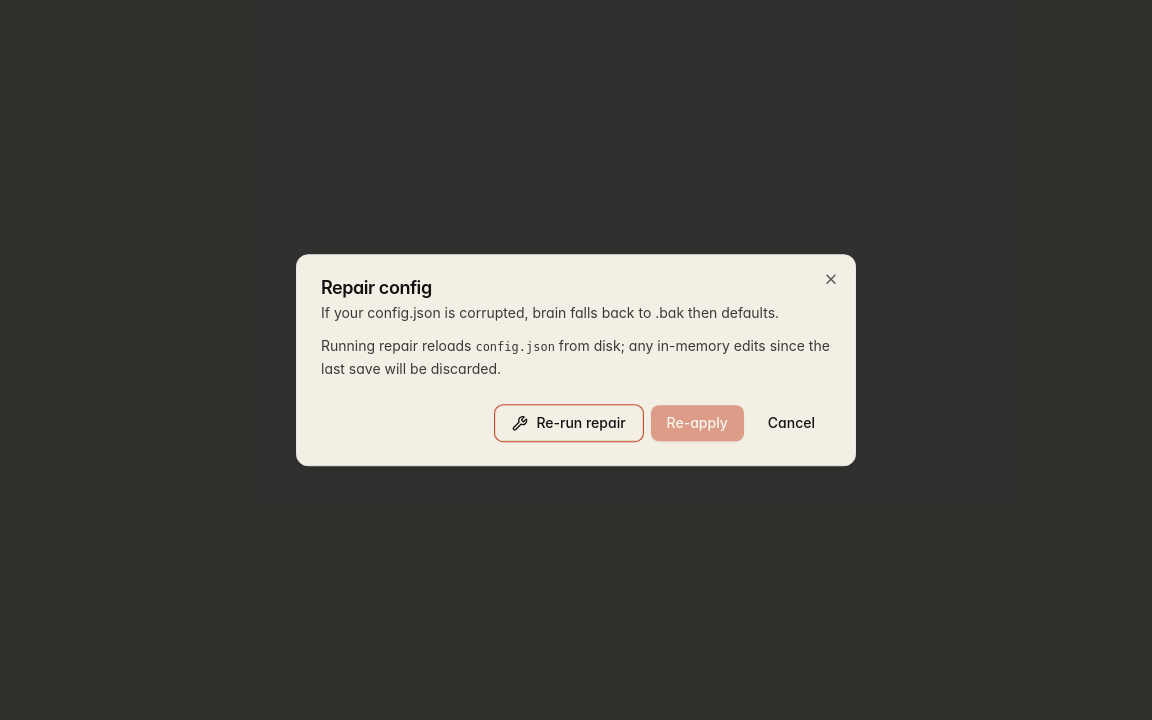
Test: RepairConfigDialog — Re-run flow › Re-run failure surfaces inline error
Expected: the dialog is shown, x1=296 y1=254 x2=856 y2=466
Click the button "Re-run repair" at (569, 423), box x1=495 y1=405 x2=643 y2=441
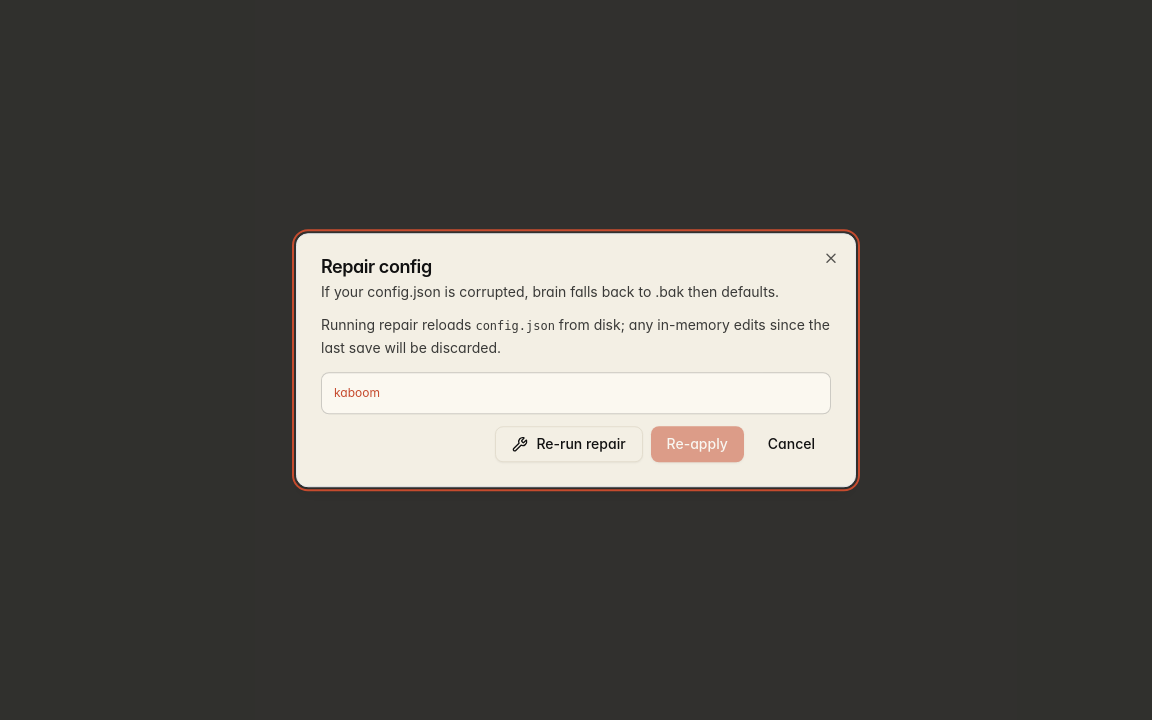
Expected: the button "Re-apply" is disabled, x1=651 y1=426 x2=744 y2=462
Result: the message reads "kaboom" at x1=334 y1=385 x2=380 y2=400
